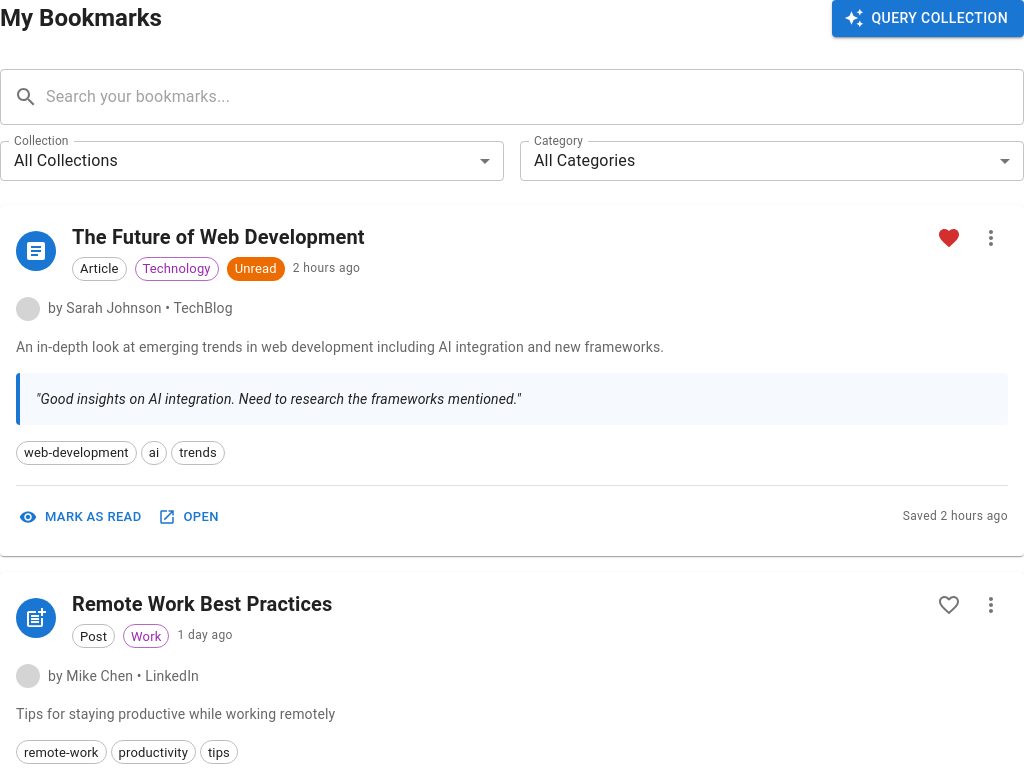
MyCollectionPage › handles query dialog interactions
The image size is (1024, 768).
Click the button "Query Collection" at coordinates (928, 18), box [832,0,1023,36]
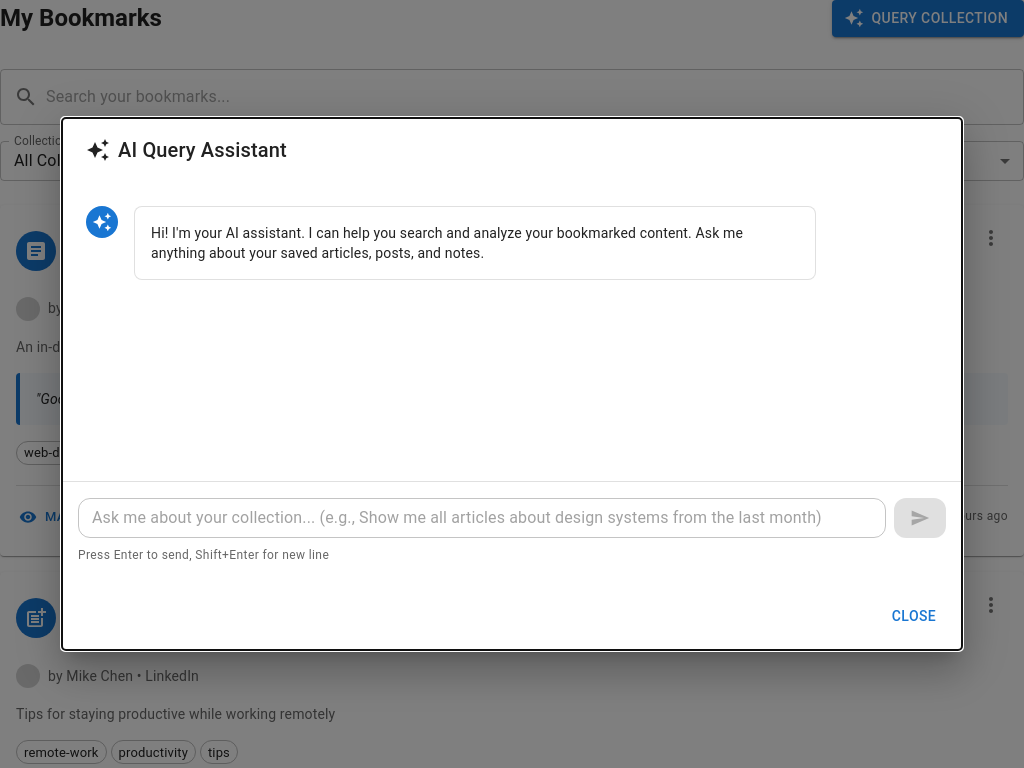
Replace the text in the text box with placeholder "Ask me about your collection" with "test query" at coordinates (482, 518), box [92,506,872,529]
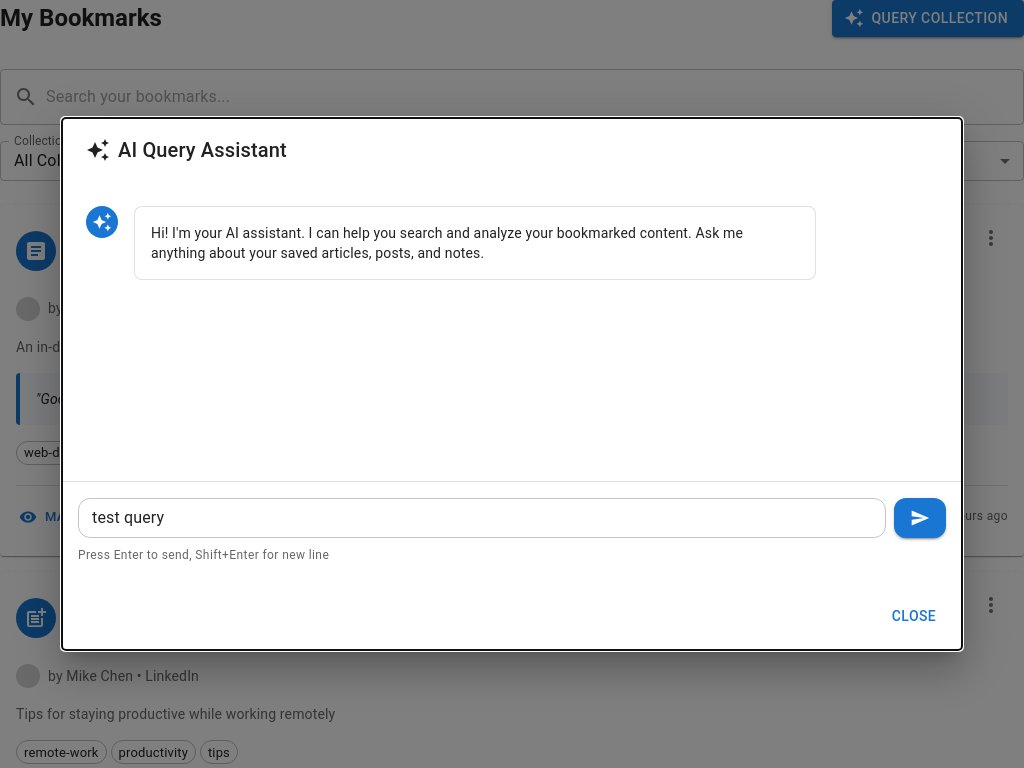
Result: the button with test id "SendIcon" is enabled
Click the button with test id "SendIcon" at coordinates (920, 518), box [894,498,946,538]
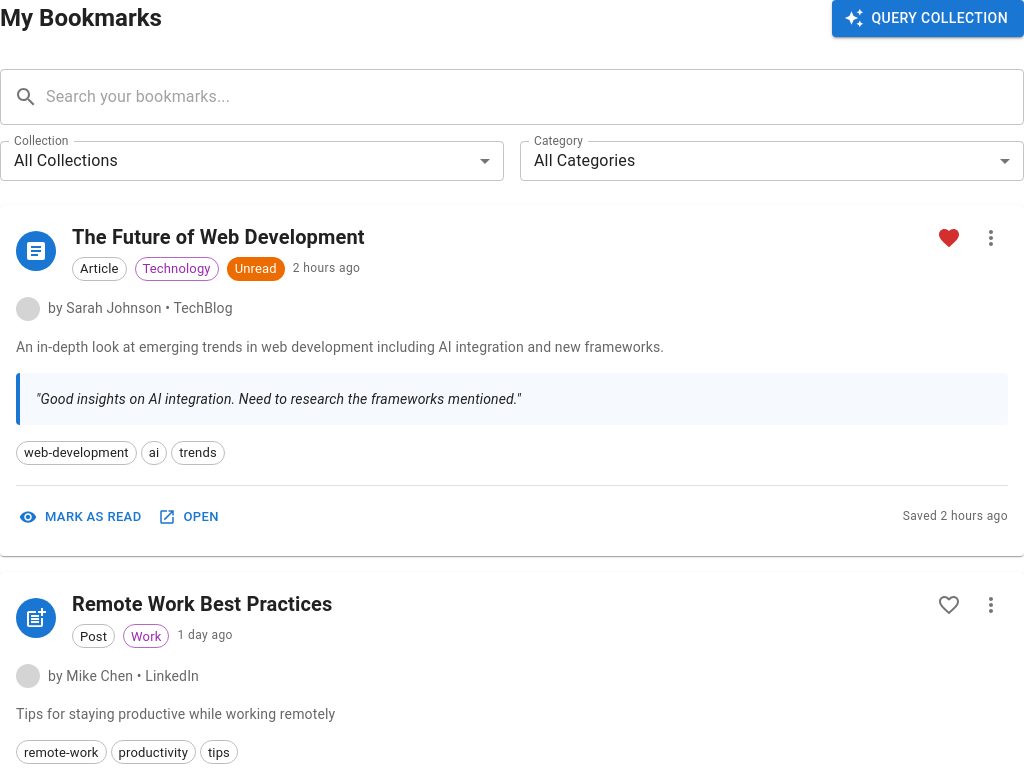
Result: the dialog is gone
